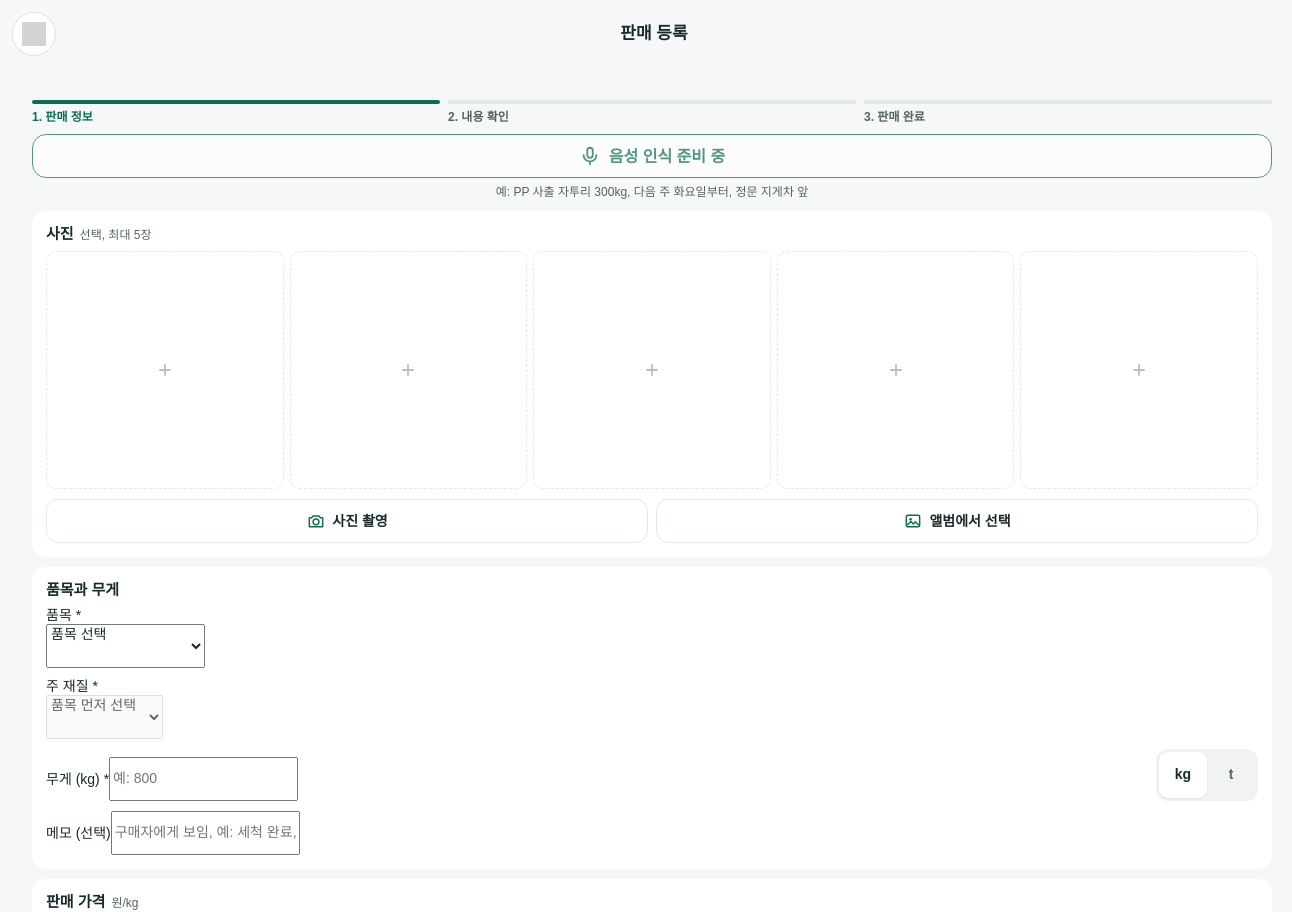
Test: 재질이 정해지면 판매 가격을 시세로 채우고, 버튼으로 바꾸면 AI 표시를 뗀다
Select "고철" in the dropdown labelled "품목 *": (126, 646) [46,624,205,668]
(page scrolled)
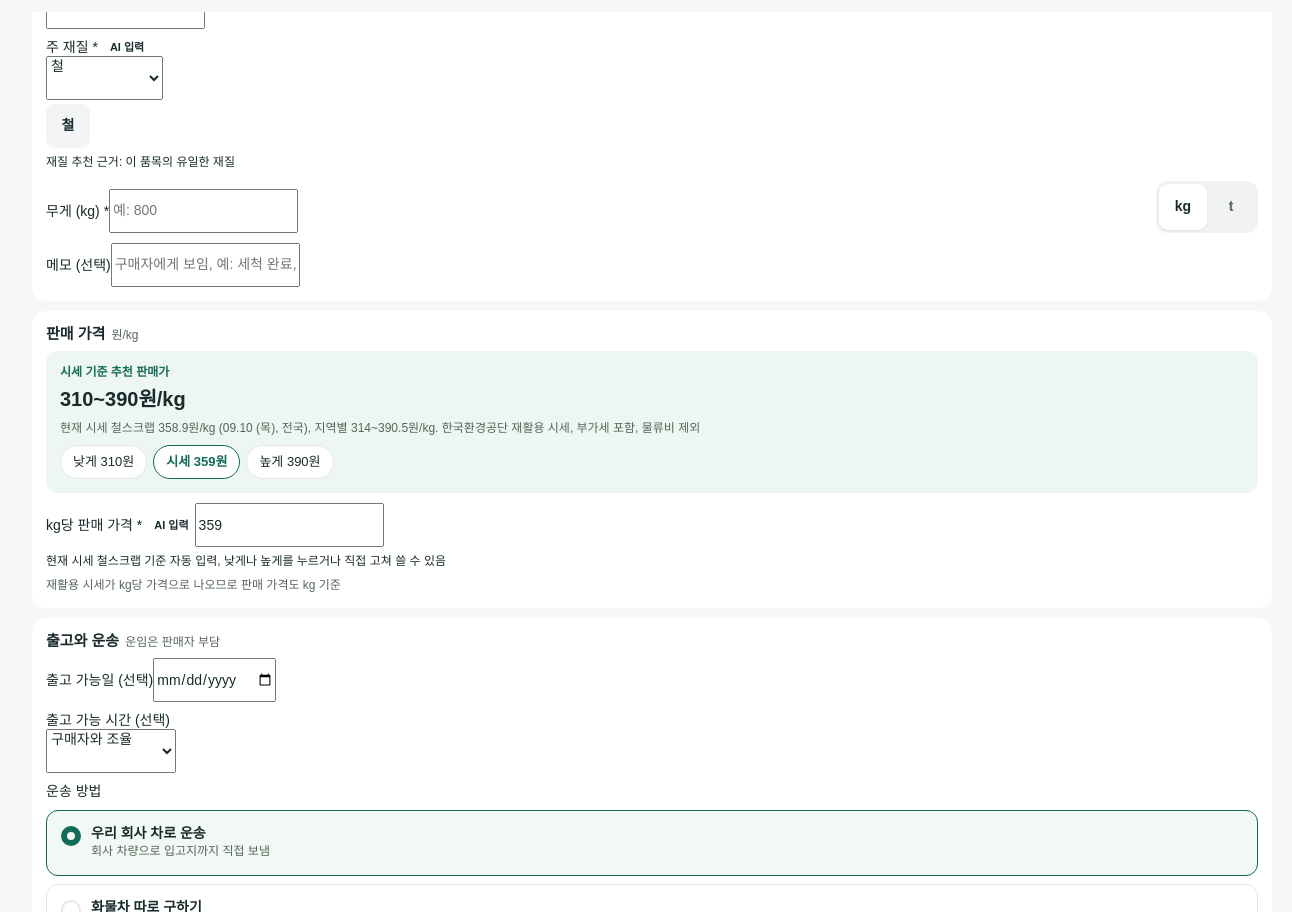
Now the field with placeholder "원/kg" holds "359", box [195,503,384,547]
Now the text "현재 시세 철스크랩 기준 자동 입력, 낮게나 높게를 누르거나 직접 고쳐 쓸 수 있음" is shown, box [46,554,446,568]
Click the button "낮게 310원": (104, 462) [60,445,147,479]
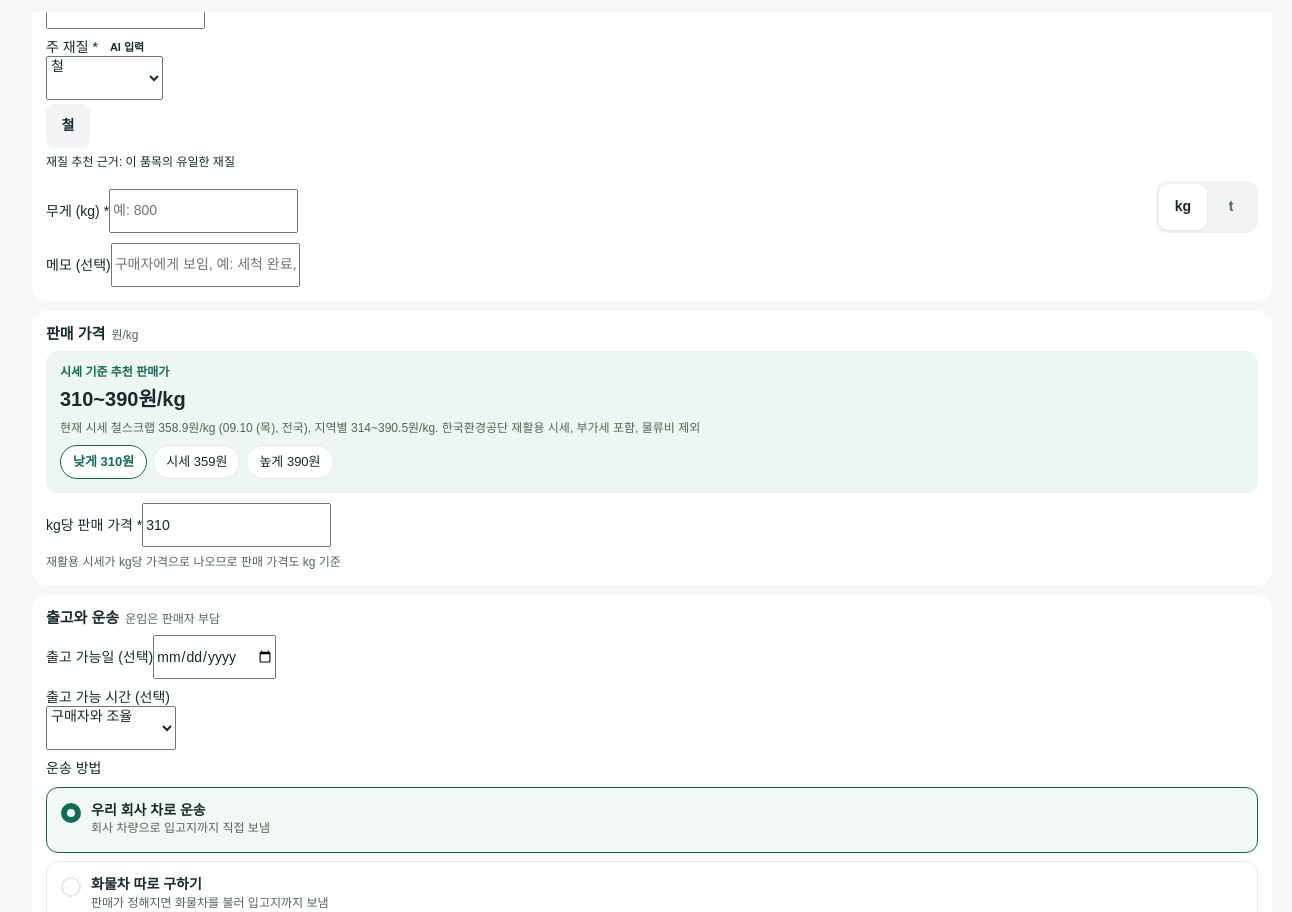
Now the field with placeholder "원/kg" holds "310", box [142,503,331,547]
